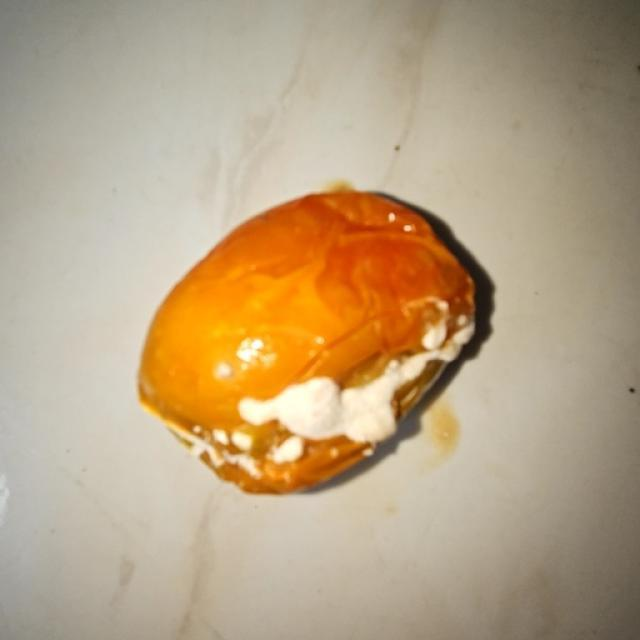Red: (135, 186, 477, 496)
